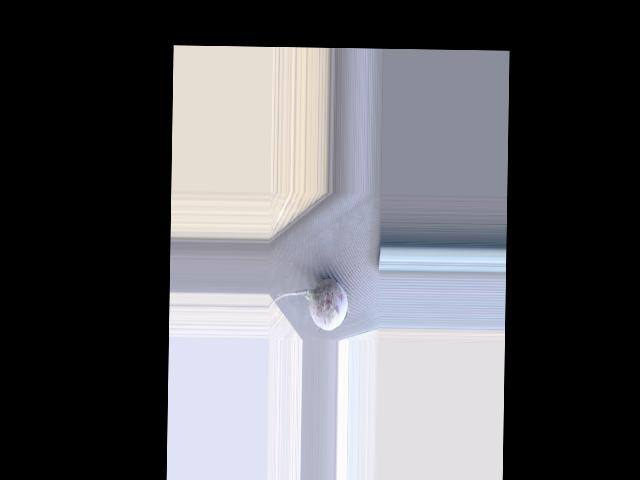beet: (268, 278, 348, 330)
